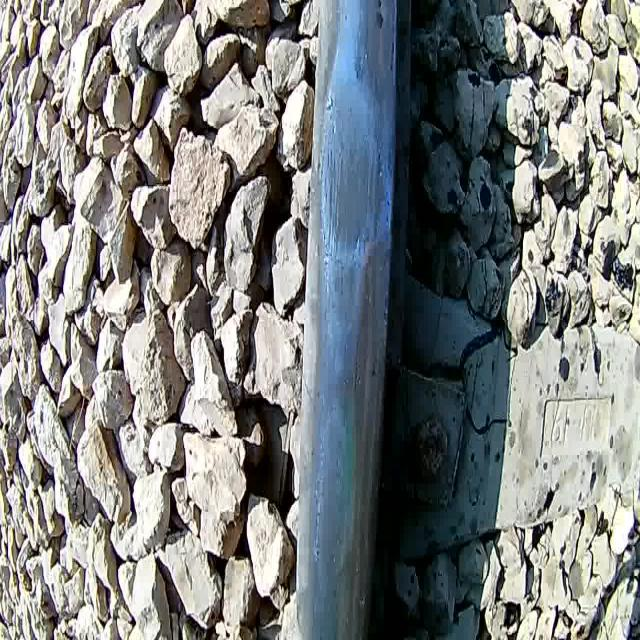Spallings: (349, 1, 406, 114)
Squats: (324, 231, 415, 640), (308, 96, 399, 291)
